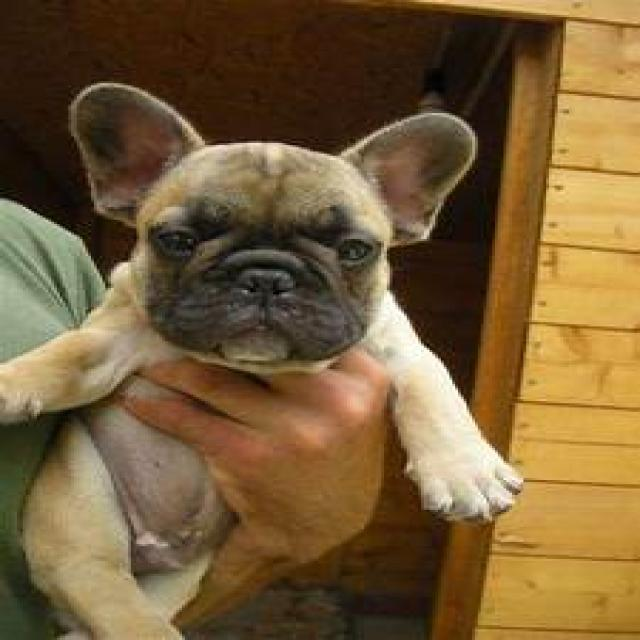animal: (0, 79, 523, 638)
